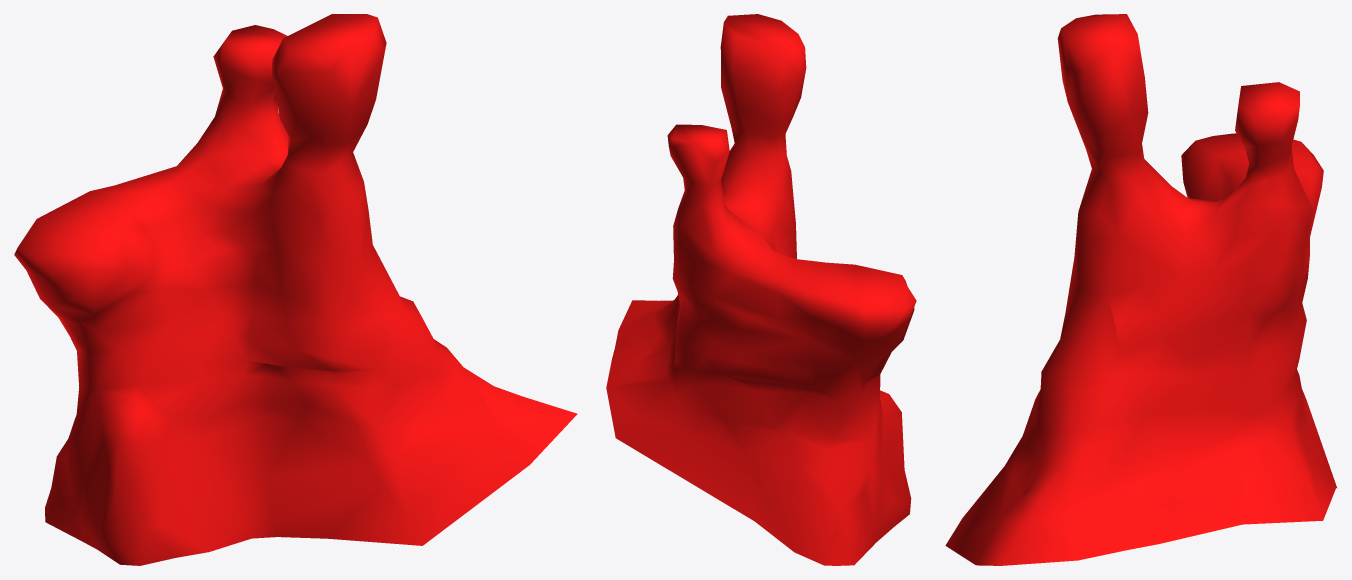
File: platformRock_D_LOW.FBX
3 views of the same model, side by side, from view 1: azimuth 30°, elevation 25°; view 2: azimuth 150°, elevation 25°; view 3: azimuth 270°, elevation 25° (orthographic). The views are drawn at different scales.
Visible parts, largest first — view 1: platformRock_04_LOW; view 2: platformRock_04_LOW; view 3: platformRock_04_LOW.
Part boxes in pixels (x1,y1,x2,y2): platformRock_04_LOW: (14, 14, 577, 565); platformRock_04_LOW: (606, 14, 916, 565); platformRock_04_LOW: (945, 14, 1337, 565).
Size of the model in its own units: 2330 by 2604 by 1652.
